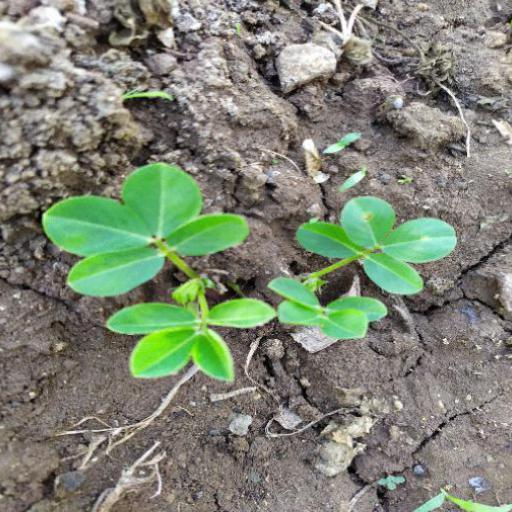weed: (29, 167, 450, 392)
